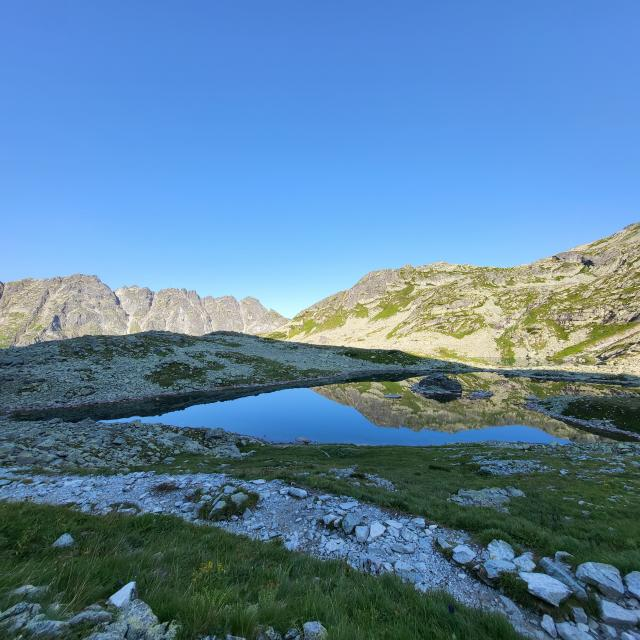Hreben Bast: (0, 250, 80, 311)
Satanovo sedlo: (79, 235, 253, 348)
